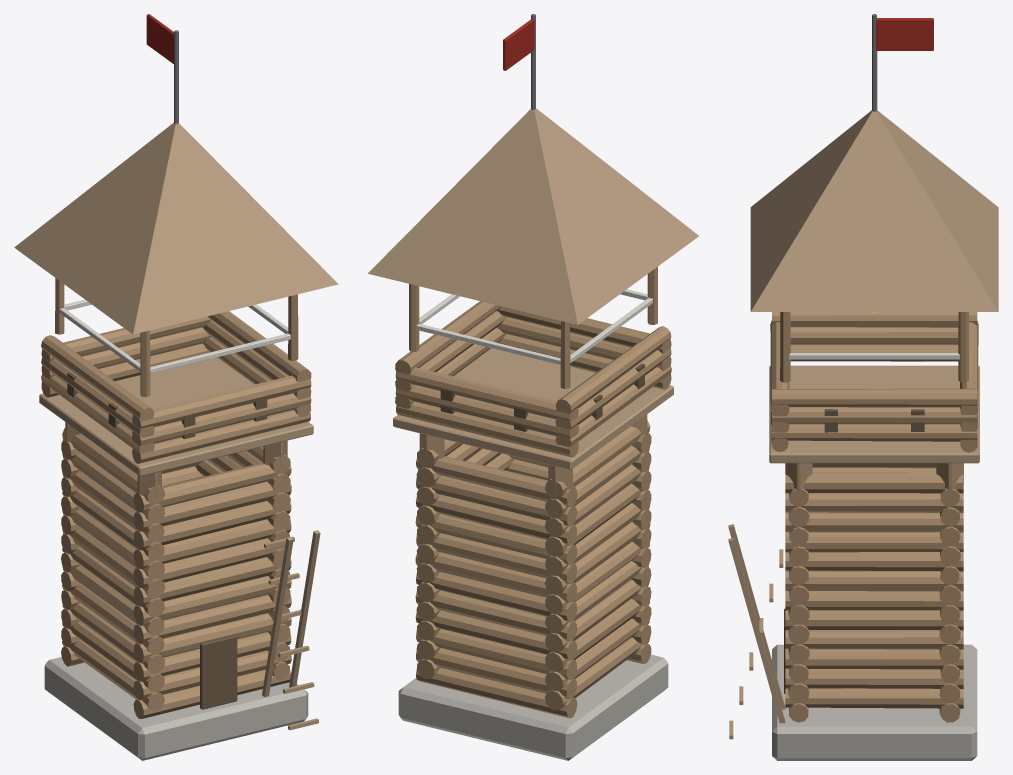
Rendered from bld_tower_e1.glb.
3 views of the same model, side by side, from view 1: azimuth 30°, elevation 25°; view 2: azimuth 150°, elevation 25°; view 3: azimuth 270°, elevation 25° (orthographic). The views are drawn at different scales.
Parts seen in each view (by area): view 1: tower; view 2: tower; view 3: tower.
Boxes of the visible parts, x1=… form: tower: x1=14, y1=14, x2=338, y2=760; tower: x1=368, y1=14, x2=698, y2=760; tower: x1=728, y1=14, x2=998, y2=760.
Size of the model in its own units: 0.918 by 2.88 by 1.
